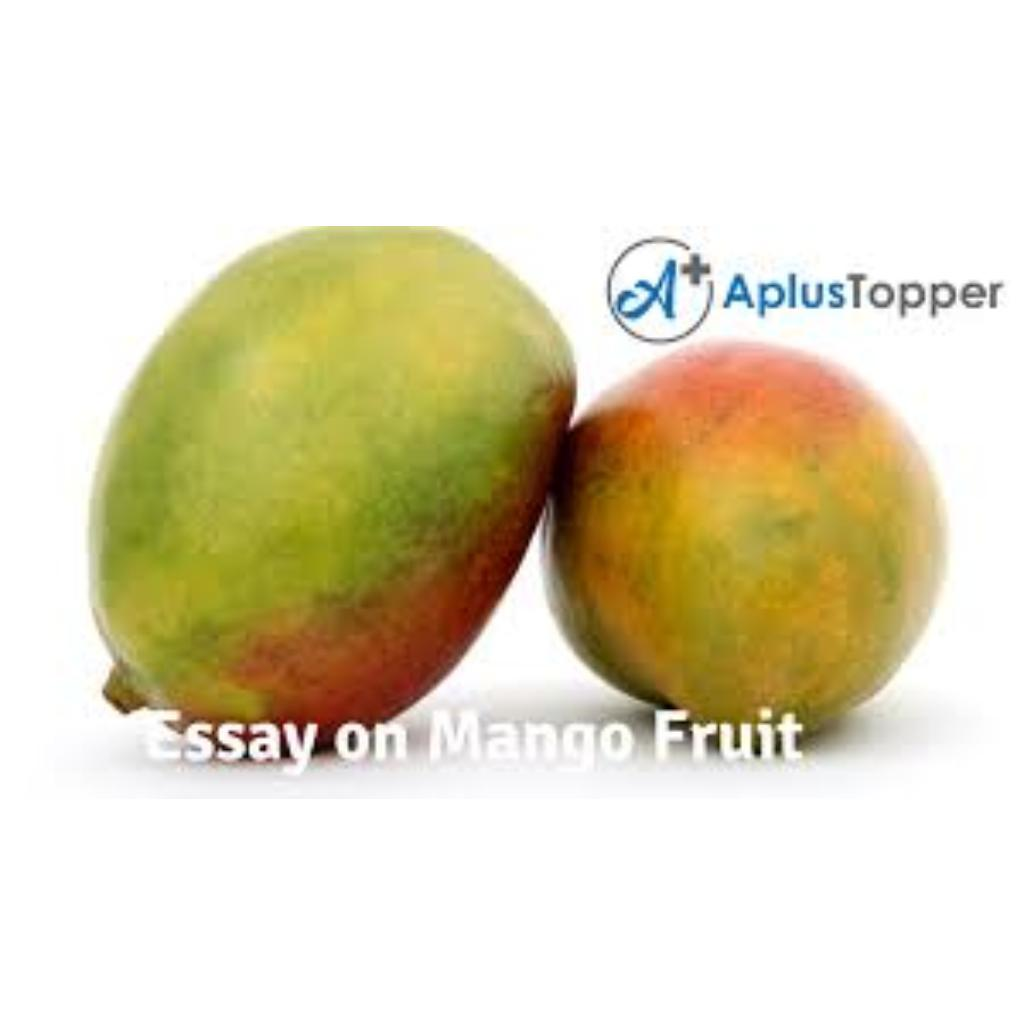mango: (82, 228, 573, 740), (550, 332, 951, 742)
